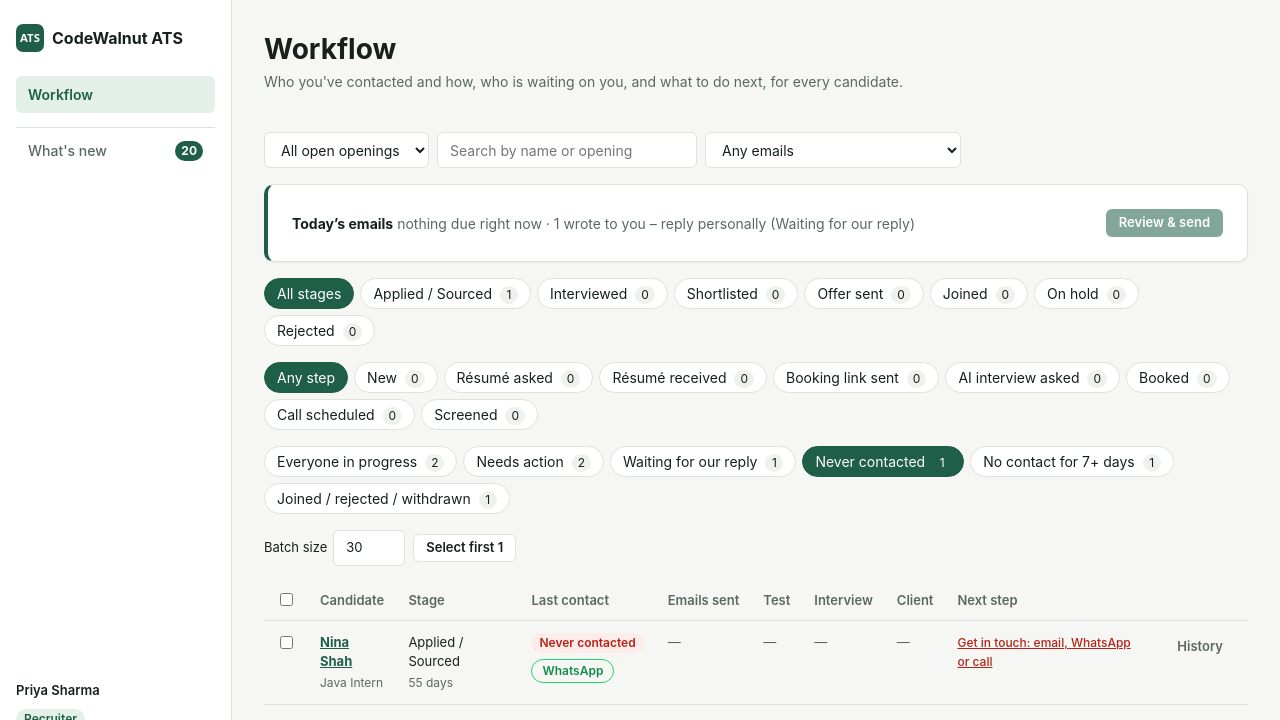
Scenario: WorkflowPage (WF-01…WF-05) › offers the résumé request on "Never contacted"
expect the text "Nina Shah" is shown: met, box [320,634,352,669]
Click the checkbox named "Select Nina Shah" at (286,642), box [280,636,293,648]
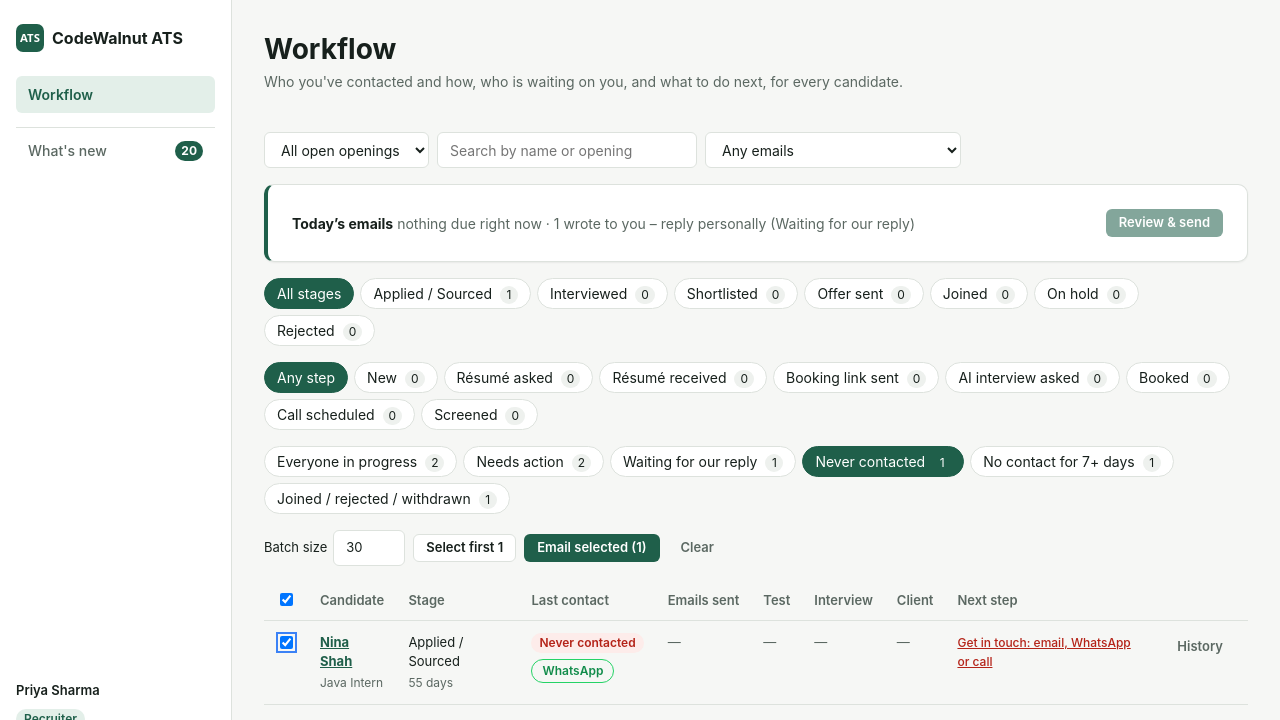
Click the button "Email selected (1)" at (592,548), box [524,534,660,562]
(page scrolled)
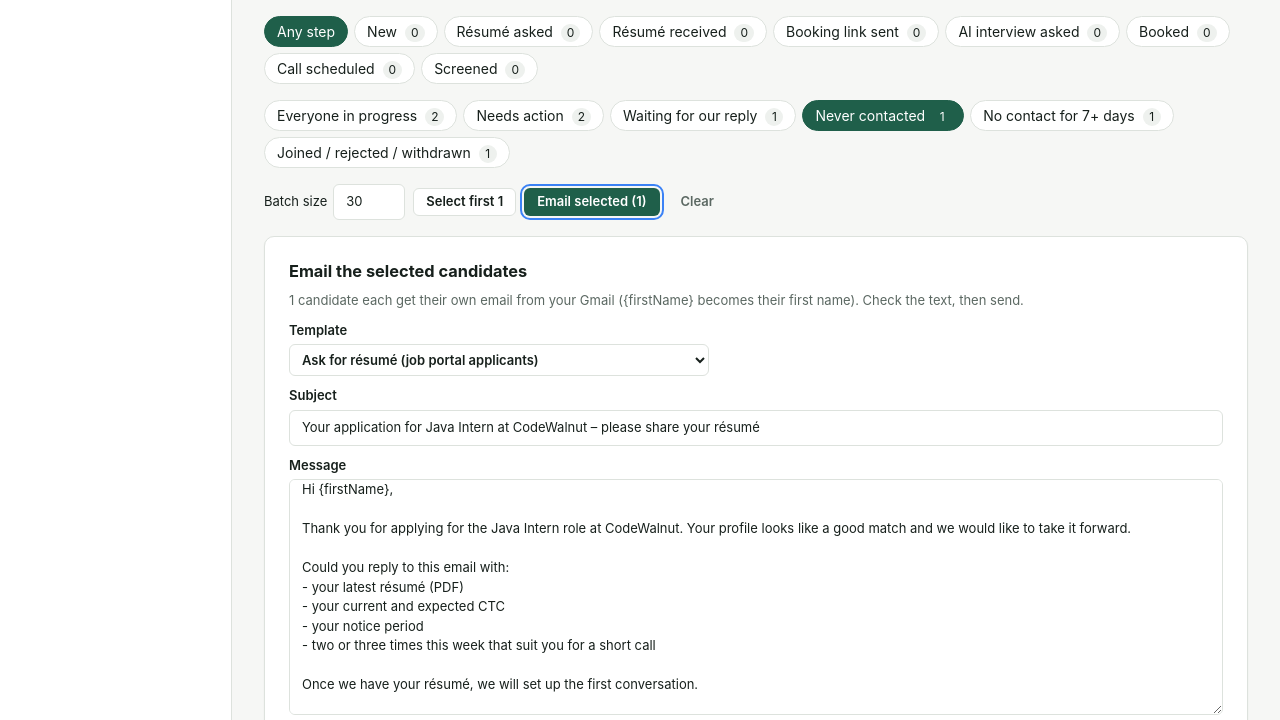
expect the dropdown labelled "Template" shows "Ask for résumé (job portal applicants)": met, box [289,344,709,376]
